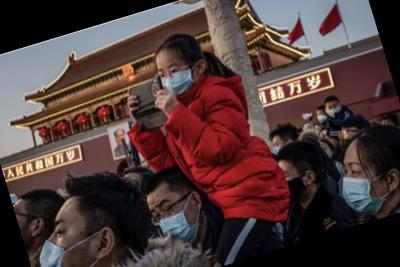mask_weared_incorrect: (334, 124, 361, 153)
with_mask: (27, 204, 112, 267), (334, 148, 396, 220), (145, 189, 208, 252), (153, 54, 203, 102), (277, 157, 313, 203), (270, 135, 289, 156), (322, 101, 342, 118), (315, 109, 327, 123)
